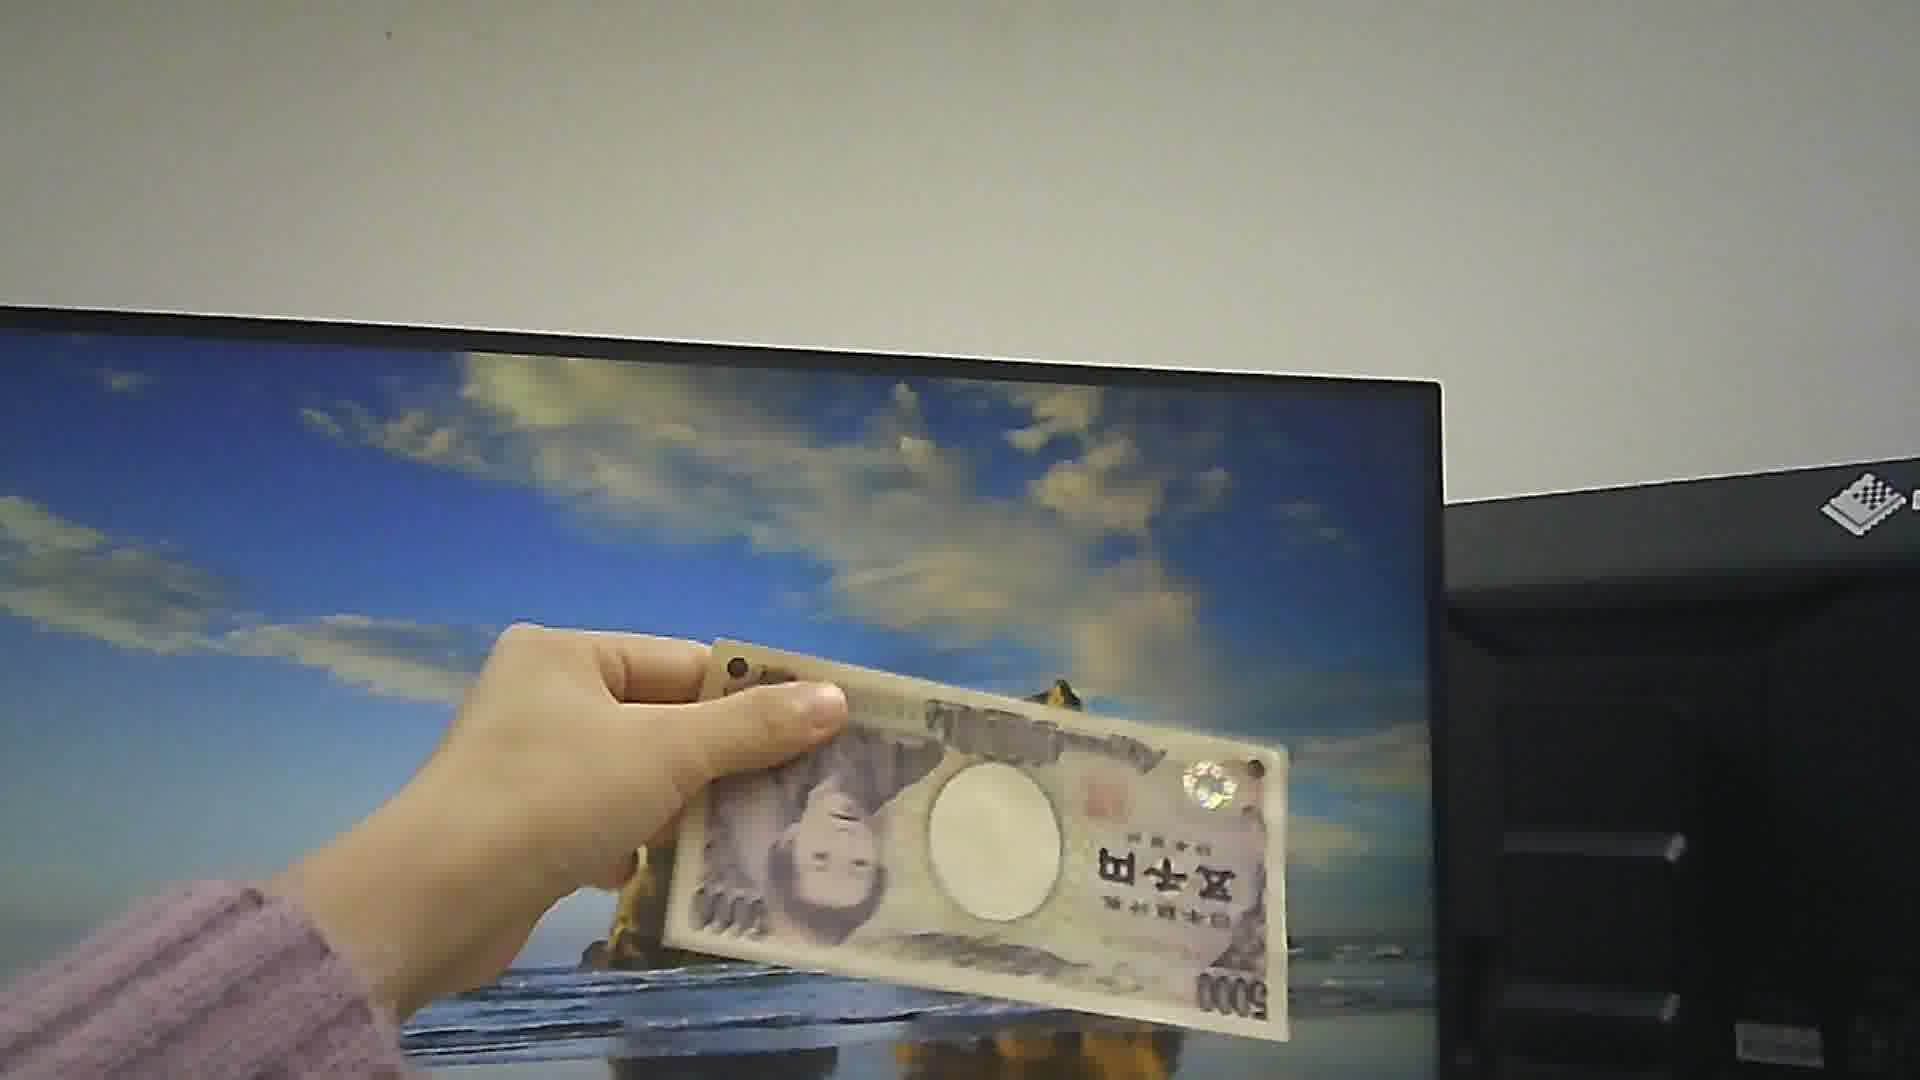5,000 Yen: (670, 629, 1302, 1043)
